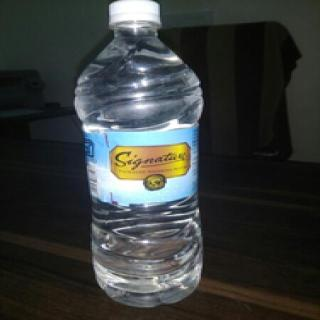Plastic-bottle: (64, 1, 213, 310)
